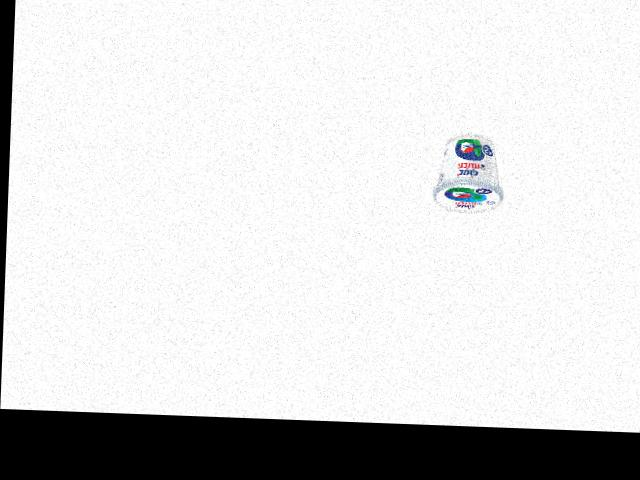cotage: (429, 131, 503, 215)
